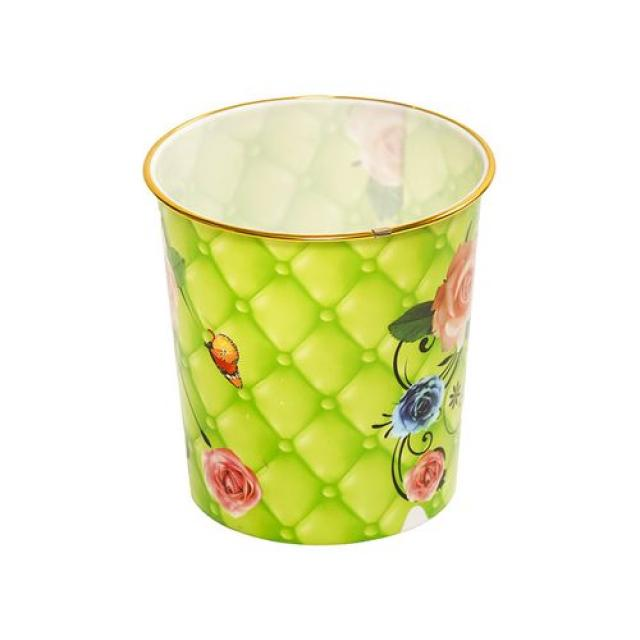dustbin: (136, 88, 501, 546)
